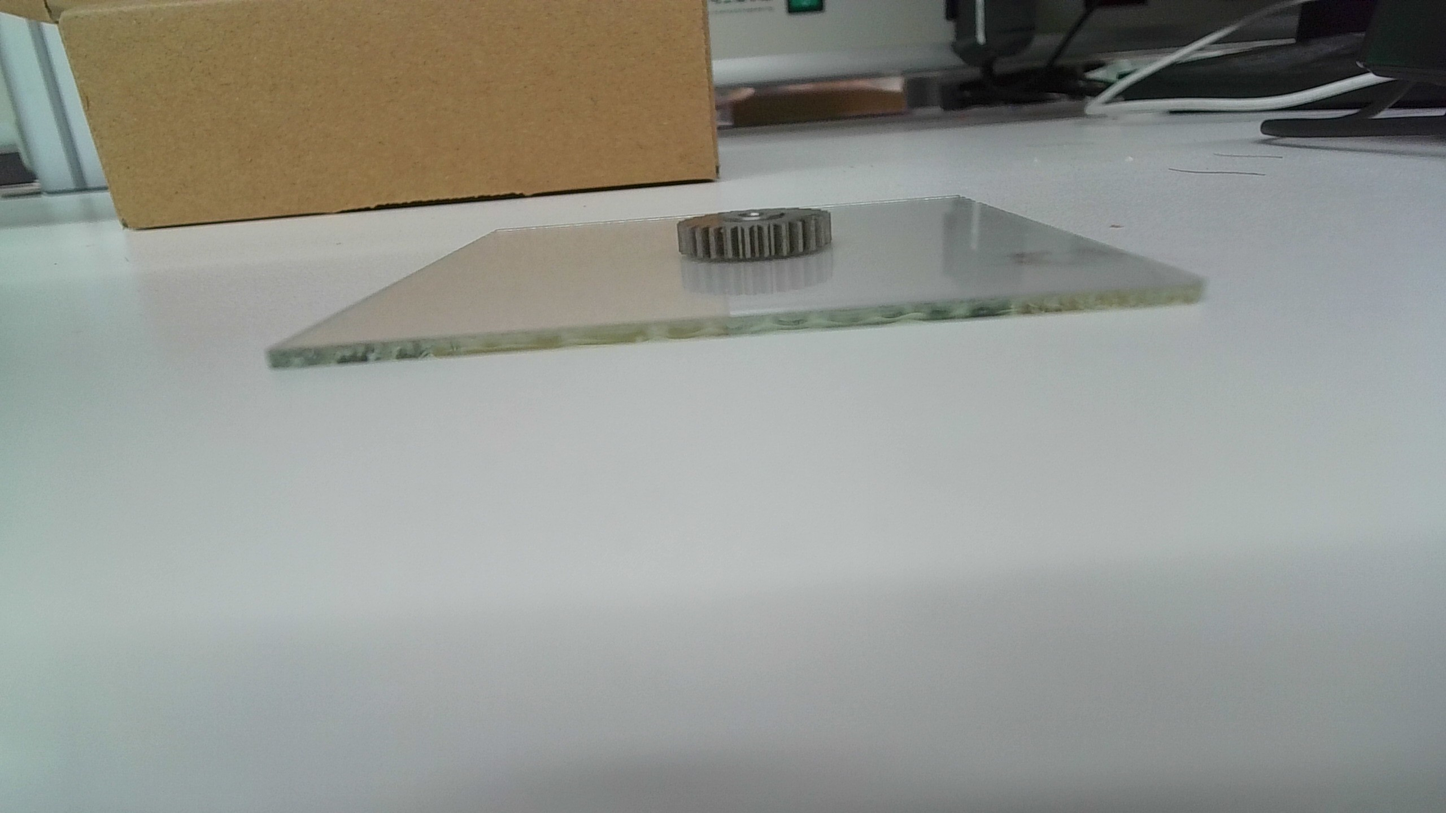gear: (674, 205, 837, 264)
